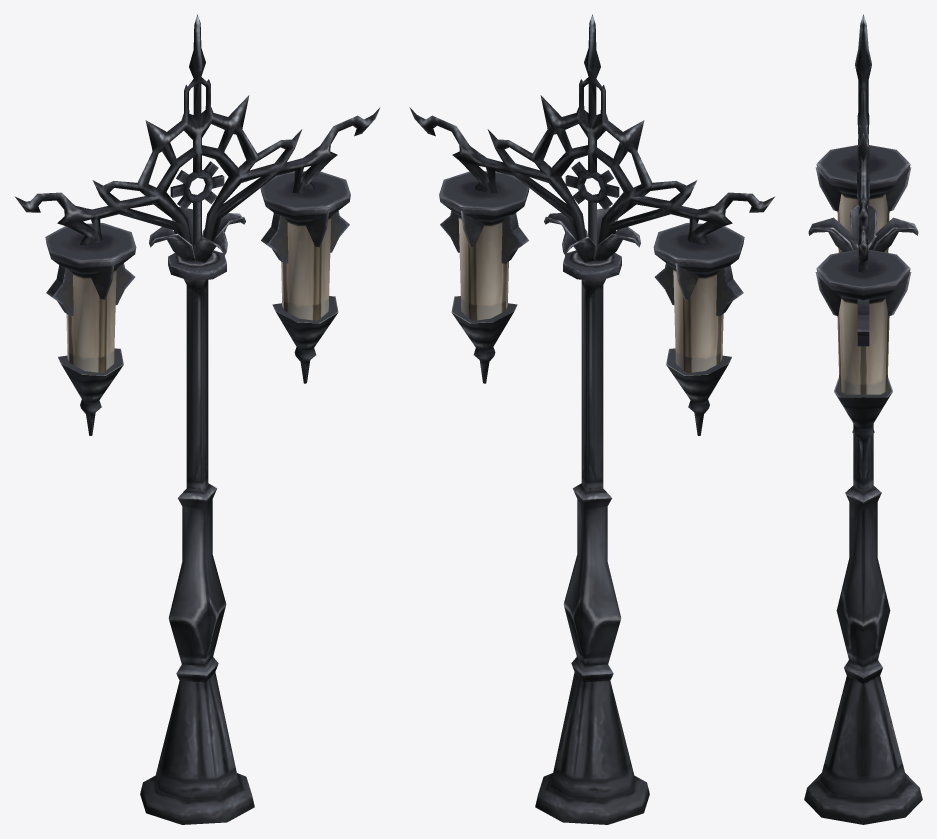
Rendered from SM_Plains_ludeng01.FBX.
The picture shows the model from 3 angles, left to right: view 1: azimuth 30°, elevation 25°; view 2: azimuth 150°, elevation 25°; view 3: azimuth 270°, elevation 25°; orthographic projection.
Visible parts, largest first — view 1: SM_Plains_ludeng01; view 2: SM_Plains_ludeng01; view 3: SM_Plains_ludeng01.
Part boxes in pixels (box(x1,y1,x2,y2)): SM_Plains_ludeng01: box(15, 14, 380, 824); SM_Plains_ludeng01: box(409, 14, 774, 824); SM_Plains_ludeng01: box(804, 14, 922, 824).
Size of the model in its own units: 282 by 580 by 79.37.
